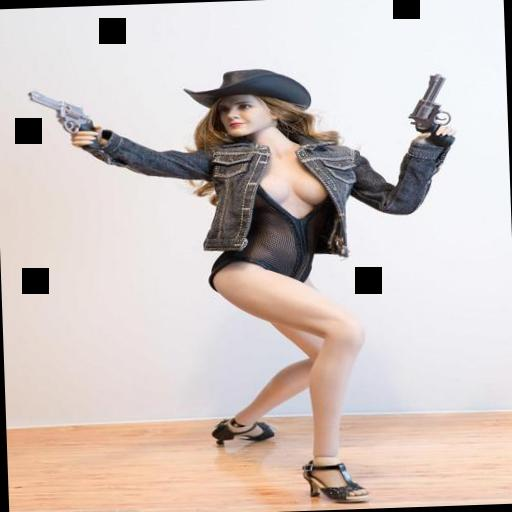Handgun: (22, 84, 99, 139), (402, 70, 455, 137)
